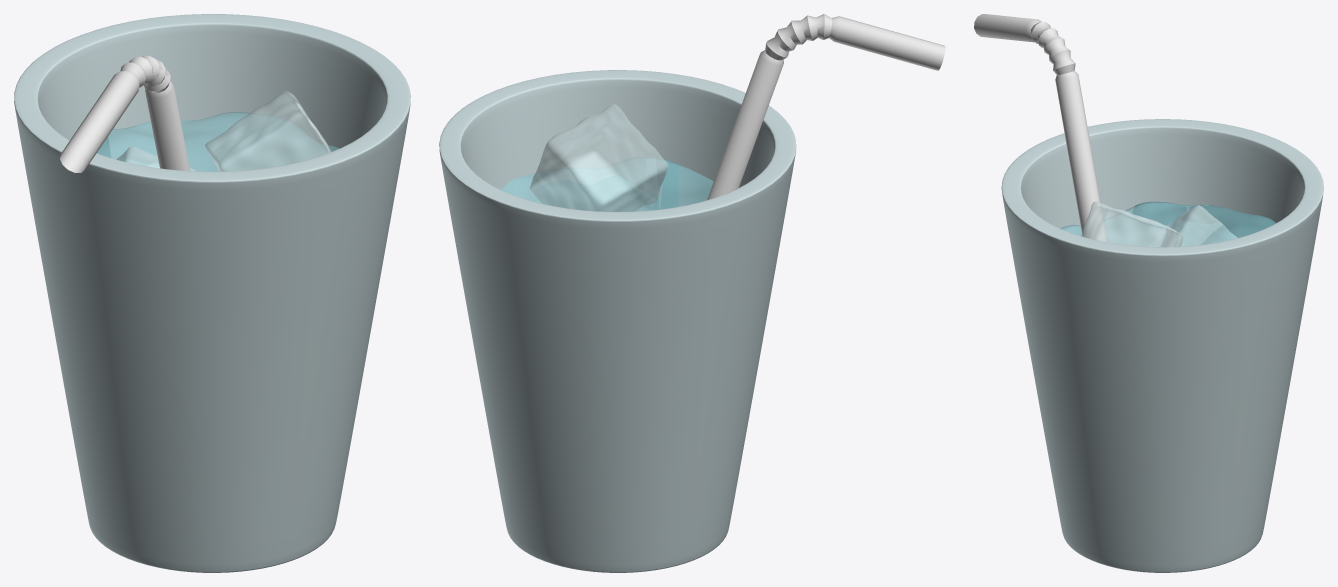
File: glass_of_water.glb
The picture shows the model from 3 angles, left to right: view 1: azimuth 30°, elevation 25°; view 2: azimuth 150°, elevation 25°; view 3: azimuth 270°, elevation 25°; orthographic projection. The views are drawn at different scales.
Parts seen in each view (by area): view 1: Vert, Circle, Vert.001, Cube, Cube.001; view 2: Vert, Cube, Vert.001, Circle; view 3: Vert, Vert.001, Circle, Cube, Cube.001.
Part boxes in pixels (left/top/right/bottom): Vert: left=14, top=14, right=410, bottom=572; Circle: left=97, top=112, right=338, bottom=171; Vert.001: left=60, top=55, right=190, bottom=172; Cube: left=205, top=91, right=331, bottom=171; Cube.001: left=116, top=146, right=196, bottom=171; Vert: left=439, top=70, right=796, bottom=572; Cube: left=529, top=104, right=668, bottom=211; Vert.001: left=707, top=14, right=945, bottom=199; Circle: left=502, top=157, right=713, bottom=211; Vert: left=1001, top=119, right=1323, bottom=572; Vert.001: left=974, top=14, right=1107, bottom=241; Circle: left=1060, top=201, right=1275, bottom=246; Cube: left=1081, top=201, right=1182, bottom=247; Cube.001: left=1167, top=205, right=1237, bottom=246.
Bounding box in the file's own units: 3.39 × 4.16 × 2.95.
